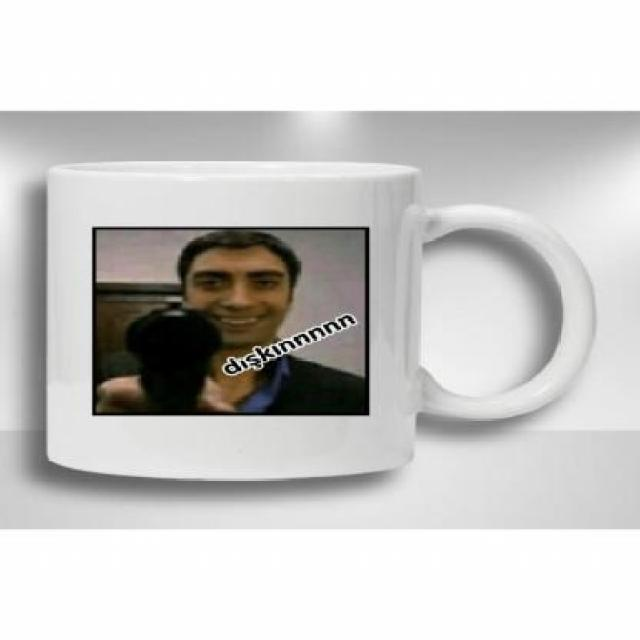taza: (35, 120, 612, 500)
